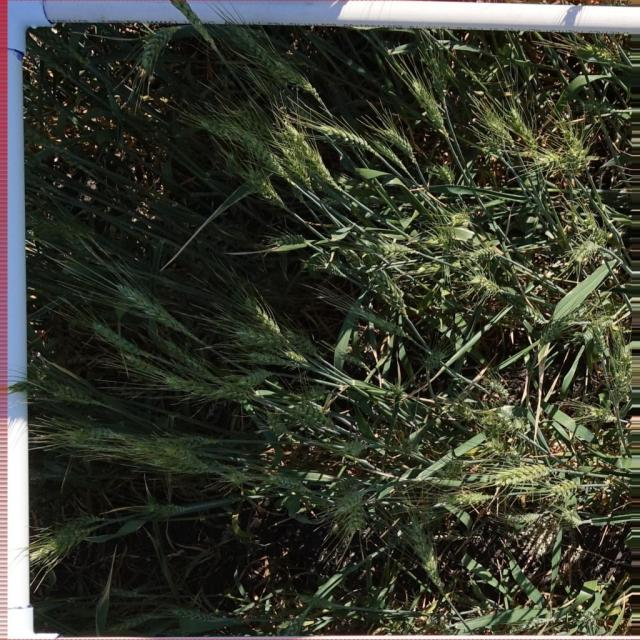wheat: (281, 120, 345, 192), (117, 283, 184, 333), (256, 76, 313, 120), (93, 322, 154, 360), (411, 524, 443, 592), (30, 529, 90, 564), (238, 127, 281, 174), (27, 25, 82, 61), (23, 217, 93, 243), (320, 123, 376, 155), (232, 26, 272, 69), (354, 306, 407, 338), (170, 0, 211, 41), (24, 34, 65, 74), (21, 118, 66, 153), (241, 168, 282, 206), (276, 61, 317, 98), (141, 26, 176, 69), (44, 381, 104, 406), (410, 78, 442, 124), (62, 231, 99, 268), (165, 339, 205, 373), (282, 147, 313, 189), (50, 148, 92, 176), (243, 299, 278, 332), (375, 273, 405, 310), (382, 129, 416, 161), (495, 466, 549, 486), (428, 58, 449, 108), (153, 457, 210, 475), (512, 109, 536, 151), (23, 170, 61, 195), (166, 445, 207, 467), (268, 472, 308, 494), (202, 121, 241, 143), (65, 425, 122, 440), (561, 131, 587, 162), (235, 330, 285, 346), (163, 376, 213, 392), (68, 439, 124, 453), (299, 404, 333, 427), (362, 241, 414, 256), (378, 145, 407, 171), (439, 491, 489, 506), (221, 527, 254, 549), (541, 317, 567, 344), (281, 610, 307, 636), (288, 330, 316, 354), (132, 439, 168, 457), (160, 436, 212, 448), (173, 609, 221, 622), (110, 615, 149, 631), (424, 234, 458, 252), (519, 615, 557, 631), (238, 109, 264, 132), (238, 369, 272, 386), (418, 260, 462, 273), (585, 220, 606, 247), (456, 594, 493, 609), (64, 515, 98, 531), (348, 501, 367, 529), (490, 122, 514, 144), (393, 490, 418, 510), (548, 151, 569, 174), (221, 153, 242, 176), (248, 352, 285, 365), (469, 277, 499, 293), (487, 414, 511, 434), (589, 44, 617, 61), (129, 358, 158, 374), (441, 458, 464, 478), (105, 588, 143, 600), (298, 595, 333, 608), (338, 491, 363, 509), (106, 388, 155, 397), (203, 397, 221, 421), (620, 351, 632, 386), (98, 553, 140, 563), (576, 241, 598, 260), (153, 503, 185, 516), (284, 350, 309, 366), (28, 466, 48, 486), (194, 455, 224, 468), (214, 386, 241, 400), (523, 307, 545, 324), (590, 407, 613, 423), (274, 234, 304, 246), (343, 249, 363, 267), (613, 329, 623, 364), (340, 353, 364, 367), (551, 482, 575, 496), (471, 247, 494, 261), (8, 381, 40, 391), (342, 441, 364, 455), (486, 138, 502, 157), (424, 350, 440, 369), (565, 148, 580, 168), (539, 153, 562, 166), (507, 514, 540, 523), (430, 534, 467, 542), (64, 355, 93, 365), (268, 413, 284, 431), (574, 326, 592, 342), (399, 440, 417, 456), (585, 100, 611, 111), (335, 478, 357, 491), (616, 373, 626, 401), (595, 325, 604, 352), (491, 381, 506, 397), (322, 264, 342, 276), (486, 439, 503, 453), (563, 513, 581, 525), (454, 406, 469, 420), (267, 346, 285, 357), (453, 213, 471, 224), (441, 167, 453, 183), (308, 385, 324, 395), (232, 472, 244, 482), (392, 386, 403, 396), (514, 418, 524, 427), (627, 51, 633, 60)
